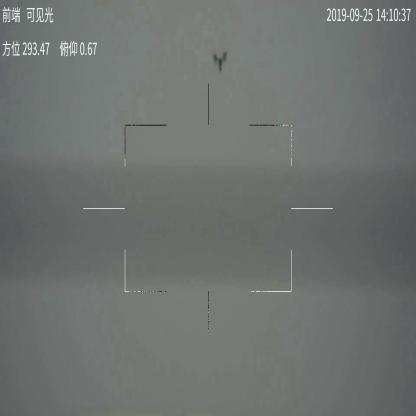uav: (213, 49, 229, 72)
